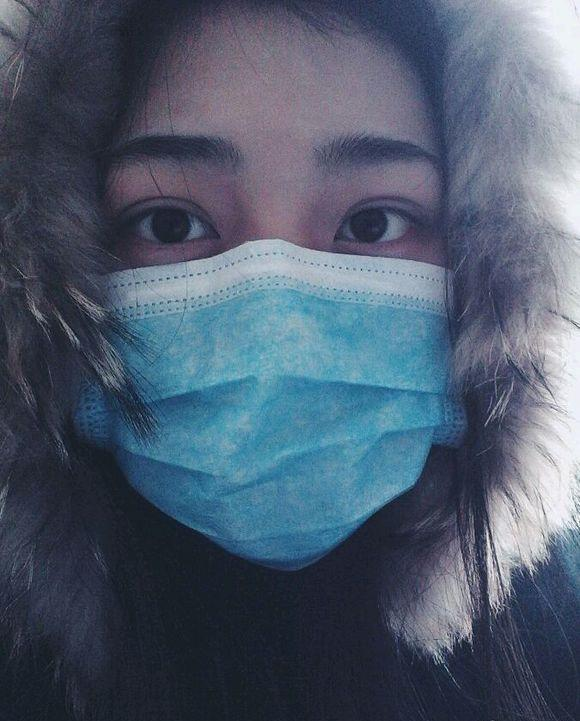OK: (49, 117, 492, 560)
